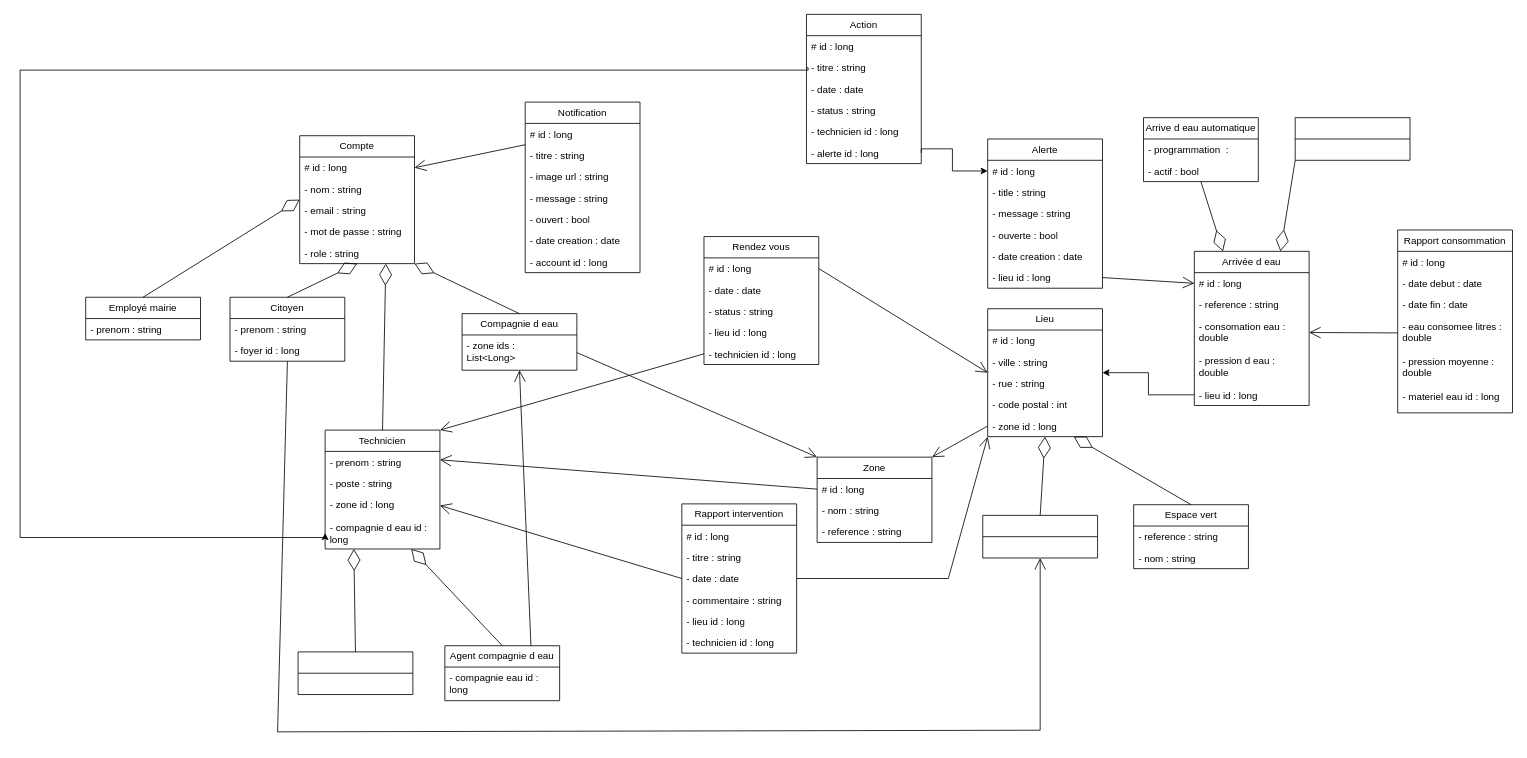
The diagram is 1527 pixels wide and 758 high, and some of its shapes have lost their labels. The centre of each missing label's shape, as x and y in pixels:
"Arrive d eau manuelle" belongs at point 1352,138.
"Foyer" belongs at point 1040,536.
"Technicien municipal" belongs at point 355,673.
